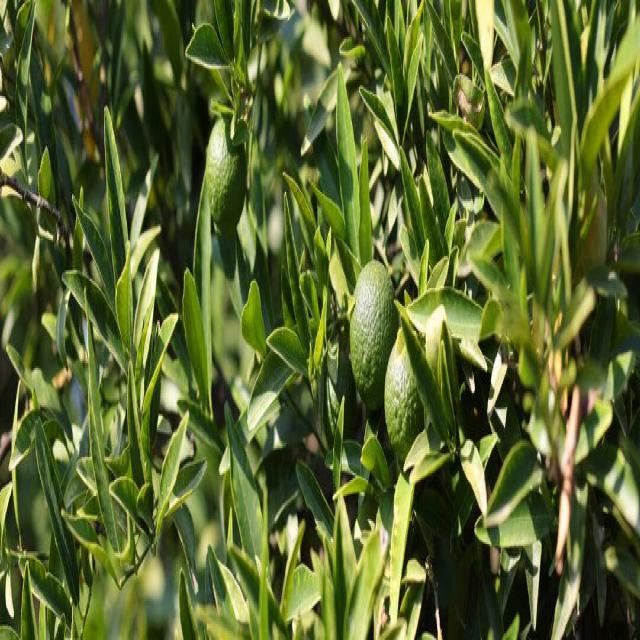Jeruk Belum Matang: (347, 260, 395, 418), (384, 336, 422, 470), (207, 115, 247, 238)
